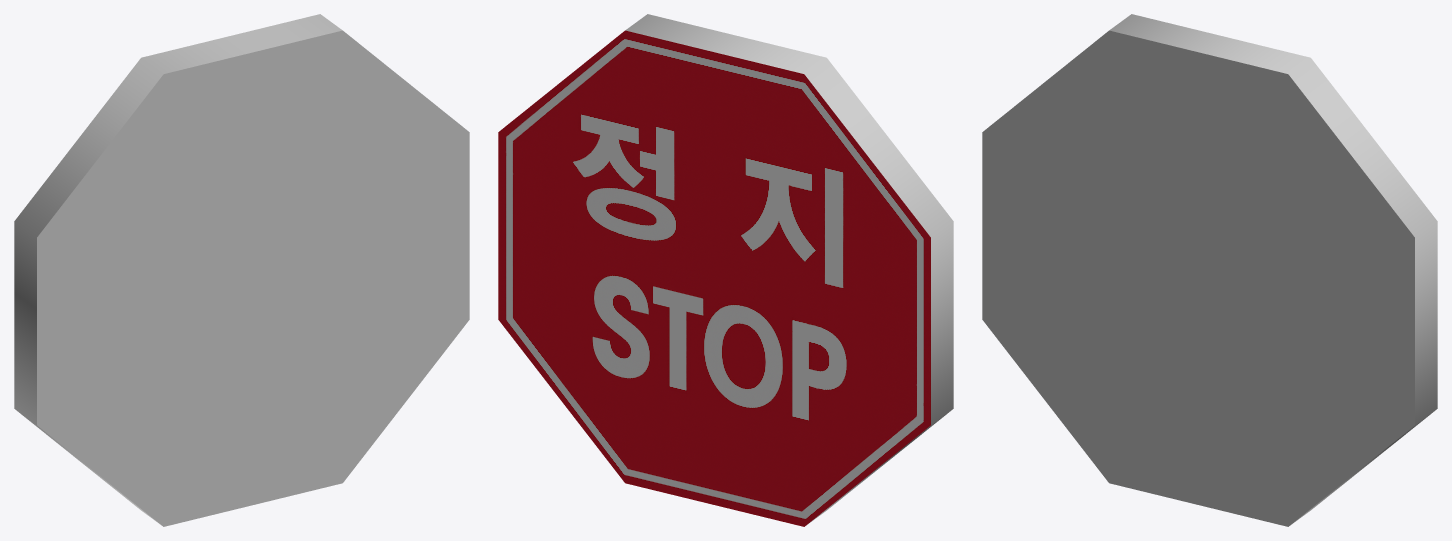
Rendered from StopManHead.fbx.
3 views of the same model, side by side, from view 1: azimuth 30°, elevation 25°; view 2: azimuth 150°, elevation 25°; view 3: azimuth 330°, elevation 25° (orthographic).
Parts seen in each view (by area): view 1: Cylinder001; view 2: Cylinder001; view 3: Cylinder001.
Boxes of the visible parts, left/top/right/bottom form: Cylinder001: left=14, top=14, right=469, bottom=526; Cylinder001: left=498, top=14, right=953, bottom=526; Cylinder001: left=982, top=14, right=1437, bottom=526.
Bounding box in the file's own units: 27.72 × 27.72 × 2.5.
